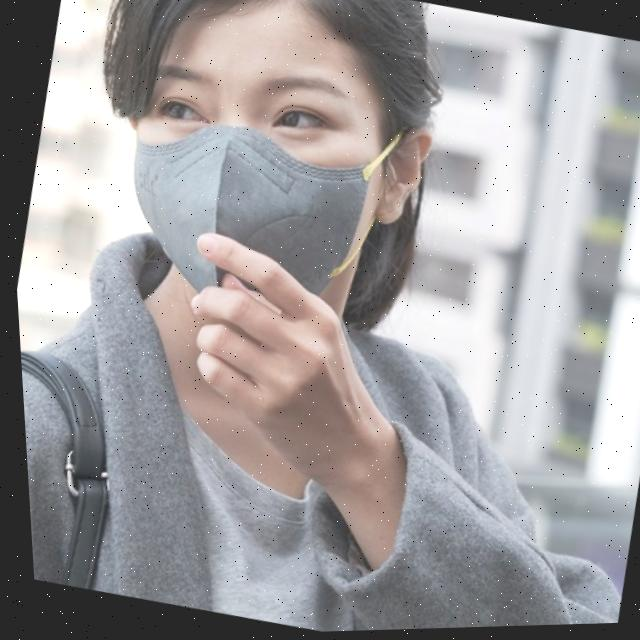Mask: (100, 79, 419, 348)
